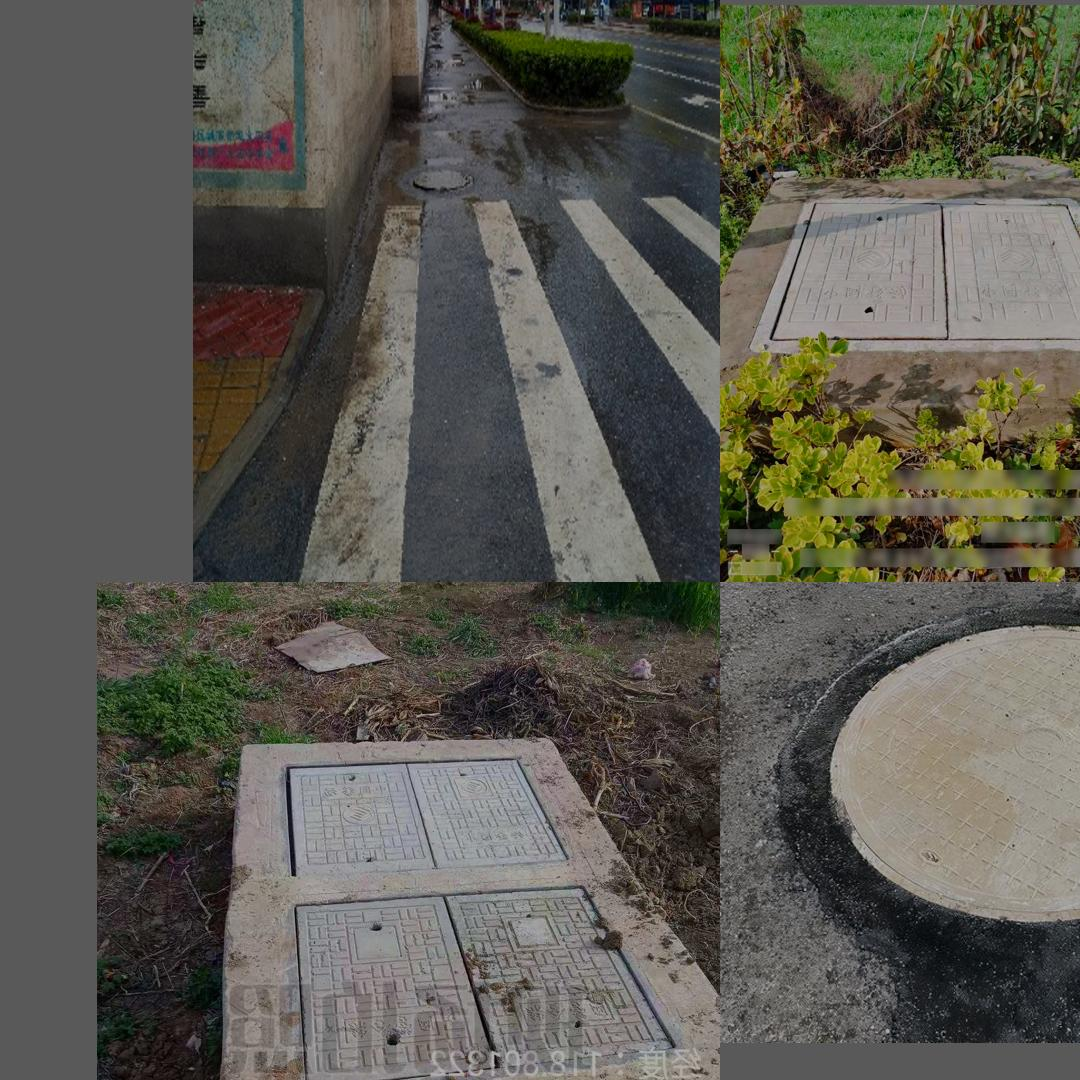good: (764, 597, 1080, 994), (287, 884, 684, 1080), (748, 198, 1080, 351), (280, 754, 574, 883), (387, 121, 501, 235)
